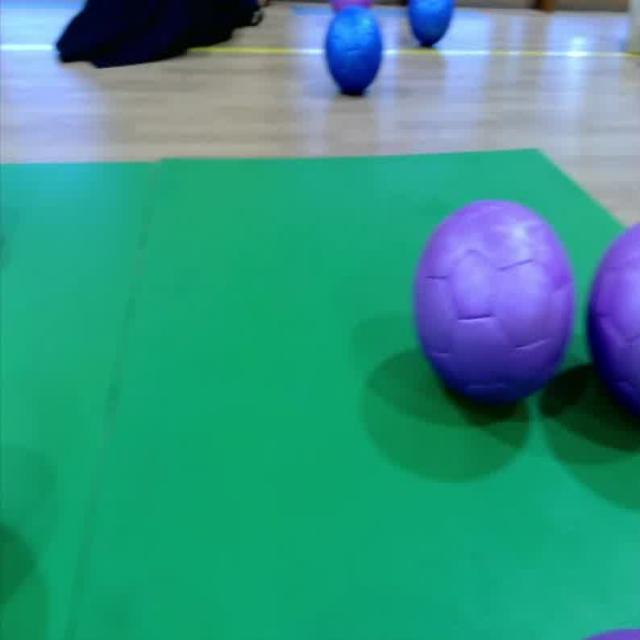blue_ball: (322, 5, 387, 100), (405, 0, 456, 51)
purple_ball: (418, 200, 575, 407), (585, 220, 640, 421)
